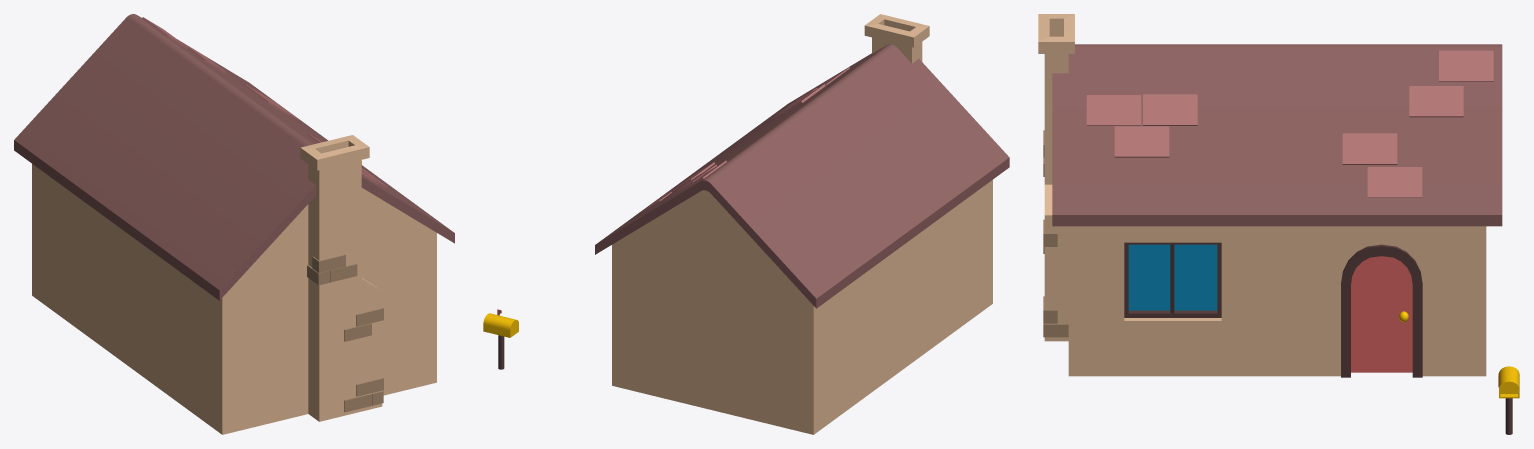
File: maison1.glb
3 views of the same model, side by side, from view 1: azimuth 30°, elevation 25°; view 2: azimuth 150°, elevation 25°; view 3: azimuth 270°, elevation 25° (orthographic). The views are drawn at different scales.
Visible parts, largest first — view 1: Circle; view 2: Circle; view 3: Circle.
Boxes of the visible parts, x1,y1,x2,y2 form: Circle: (14, 14, 454, 434); Circle: (483, 14, 1009, 434); Circle: (1038, 14, 1519, 434).
Size of the model in its own units: 10.37 by 7.61 by 11.39.
